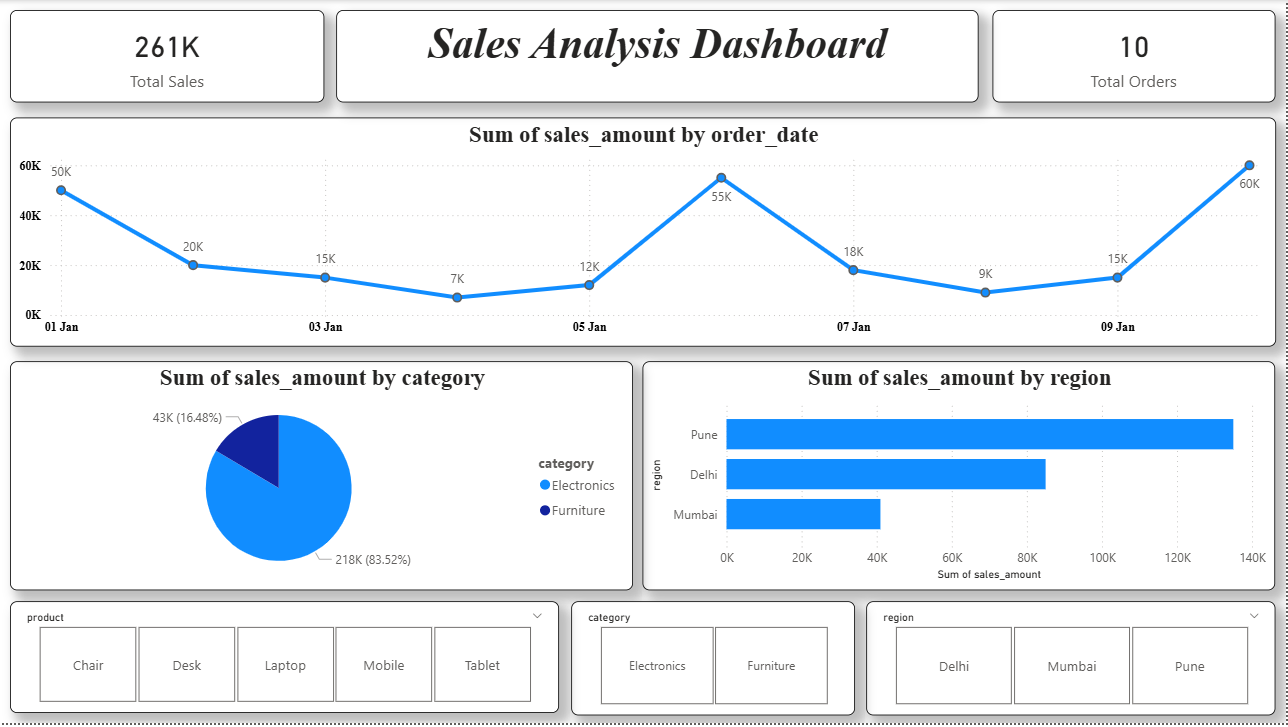

The page's visual inventory and layout, read from the dashboard file:
{"tool":"powerbi","page":{"name":"Page 1","canvas":[1280,720],"ordinal":0},"visuals":[{"type":"card","fields":{"Values":["Sales_Dataset.Total Sales"]},"box":[9.6,9.6,312.9,91.9],"z":0},{"type":"card","fields":{"Values":["Sales_Dataset.Total Orders"]},"box":[988,9.6,281.3,91.9],"z":1000},{"type":"clusteredBarChart","fields":{"Y":["Sum(Sales_Dataset.sales_amount)"],"Category":["Sales_Dataset.region"]},"box":[639.5,359.5,629.8,227.8],"z":2000},{"type":"pieChart","fields":{"Category":["Sales_Dataset.category"],"Y":["Sum(Sales_Dataset.sales_amount)"]},"box":[9.6,359.5,620.2,227.8],"z":3000},{"type":"lineChart","fields":{"Y":["Sum(Sales_Dataset.sales_amount)"],"Category":["Sales_Dataset.order_date"]},"box":[9.6,116.6,1259.7,227.8],"z":4000},{"type":"slicer","fields":{"Values":["Sales_Dataset.region"]},"box":[861.8,598.3,407.5,113.9],"z":5000},{"type":"slicer","fields":{"Values":["Sales_Dataset.category"]},"box":[568.1,598.3,282.7,113.9],"z":6000},{"type":"slicer","fields":{"Values":["Sales_Dataset.product"]},"box":[9.6,598.3,546.1,111.1],"z":7000},{"type":"textbox","box":[334.8,9.6,639.5,91.9],"z":8000}]}

Visuals, with their boxes in screenshot pixels (x1, y1, x2, y2), scaled from the page's 1280x720 canvas onto the 1288x727 screenshot:
card - Sales_Dataset.Total Sales: [10, 10, 325, 102]
card - Sales_Dataset.Total Orders: [994, 10, 1277, 102]
clusteredBarChart - Sum(Sales_Dataset.sales_amount) x Sales_Dataset.region: [643, 363, 1277, 593]
pieChart - Sales_Dataset.category x Sum(Sales_Dataset.sales_amount): [10, 363, 634, 593]
lineChart - Sum(Sales_Dataset.sales_amount) x Sales_Dataset.order_date: [10, 118, 1277, 348]
slicer - Sales_Dataset.region: [867, 604, 1277, 719]
slicer - Sales_Dataset.category: [572, 604, 856, 719]
slicer - Sales_Dataset.product: [10, 604, 559, 716]
textbox: [337, 10, 980, 102]
